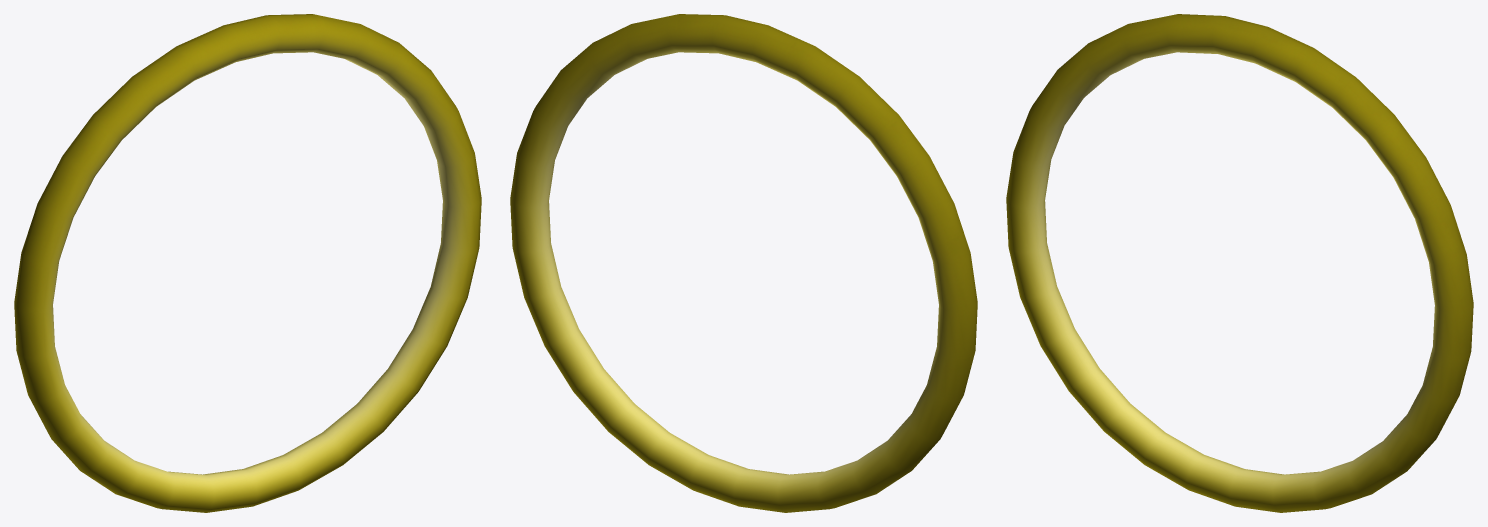
The model's file is Argola.FBX.
3 views of the same model, side by side, from view 1: azimuth 30°, elevation 25°; view 2: azimuth 150°, elevation 25°; view 3: azimuth 330°, elevation 25° (orthographic).
Parts seen in each view (by area): view 1: Line001; view 2: Line001; view 3: Line001.
Boxes of the visible parts, x1=… form: Line001: x1=14, y1=14, x2=481, y2=512; Line001: x1=510, y1=14, x2=977, y2=512; Line001: x1=1006, y1=14, x2=1473, y2=512.
Size of the model in its own units: 106 by 106 by 7.74.
1 material, 1 textured.
